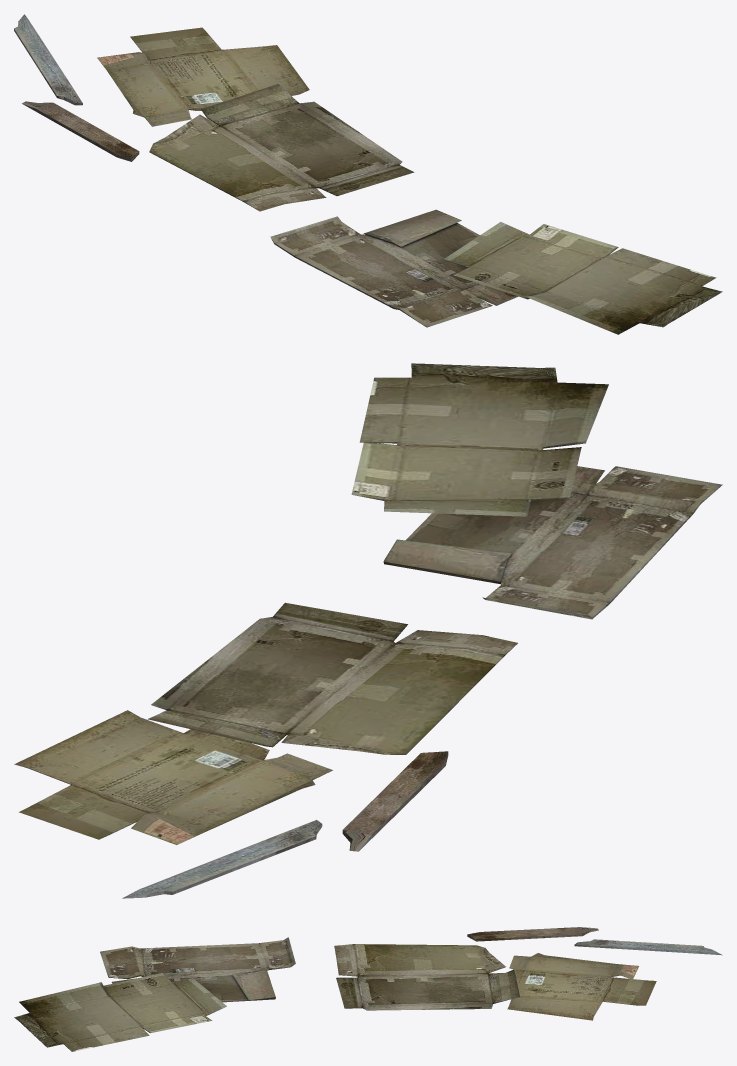
File: garbage256_composite002b.glb
The picture shows the model from 3 angles, top to bottom: view 1: azimuth 30°, elevation 25°; view 2: azimuth 150°, elevation 25°; view 3: azimuth 270°, elevation 25°; orthographic projection. The views are drawn at different scales.
Parts seen in each view (by area): view 1: 0_garbage002a_01; view 2: 0_garbage002a_01; view 3: 0_garbage002a_01.
Boxes of the visible parts, x1=… form: 0_garbage002a_01: x1=14, y1=14, x2=722, y2=334; 0_garbage002a_01: x1=14, y1=363, x2=722, y2=898; 0_garbage002a_01: x1=14, y1=927, x2=722, y2=1051.
Size of the model in its own units: 2.62 by 0.0874 by 6.32.
Materials: 1 (1 with a texture image).
